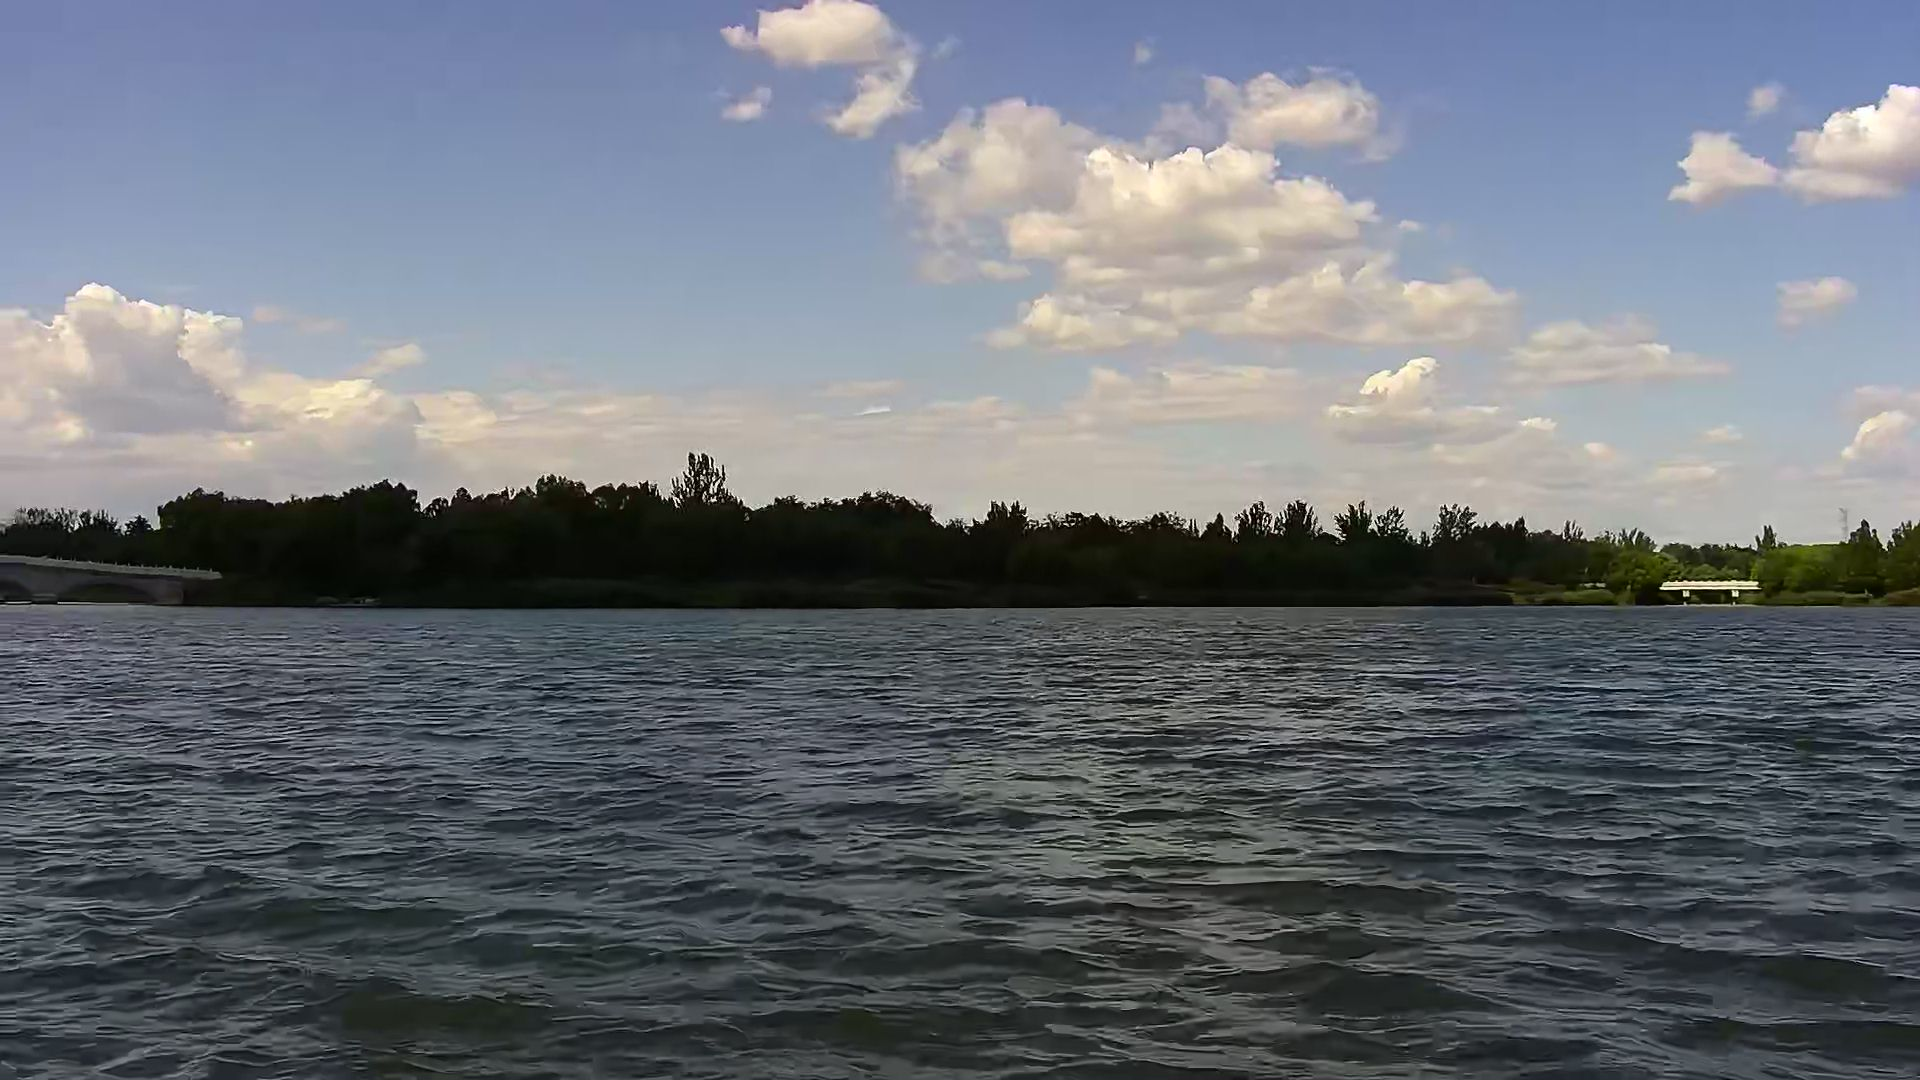bridge: (1, 551, 225, 611), (1660, 582, 1767, 611)
